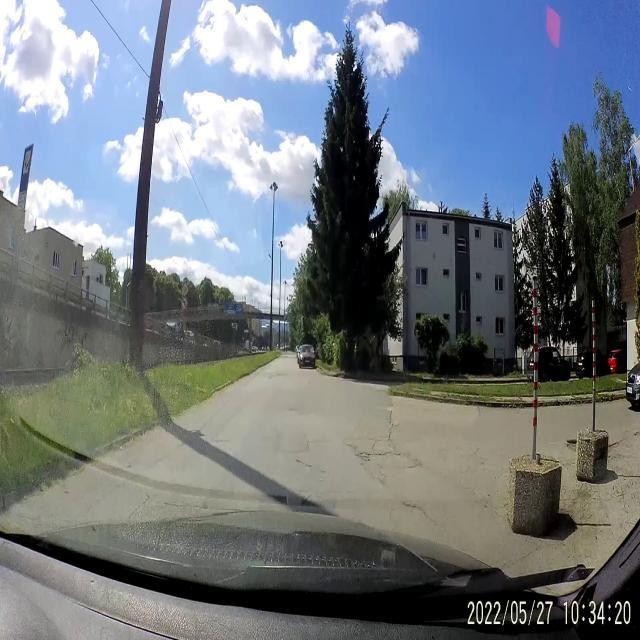Pothole: (354, 446, 408, 478), (400, 496, 428, 518), (386, 400, 394, 446), (268, 370, 288, 380), (566, 434, 576, 453)
